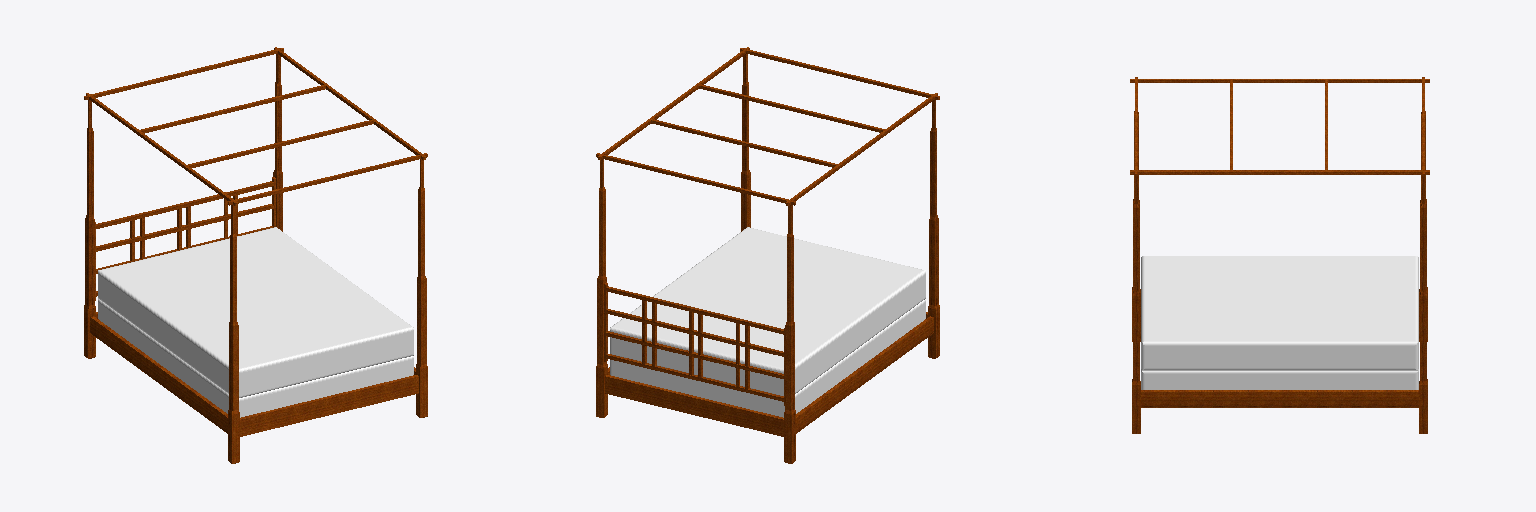
The picture shows the model from 3 angles: view 1: azimuth 30°, elevation 25°; view 2: azimuth 150°, elevation 25°; view 3: azimuth 270°, elevation 25°; orthographic projection.
Visible parts, largest first — view 1: Mesh34 Matterss2 Windward_Bed1 WW_FPQ1 Model, Mesh33 Matterss1 Windward_Bed1 WW_FPQ1 Model, Mesh4 Windward_Bed_Cross_Rail1 Windward_Bed1 WW_FPQ1 Model, Mesh28 Windward_Bed_Cross_Rail_1_2 Windward_Bed1 WW_FPQ1 Model, Mesh16 Windward_Bed_Post4 Windward_Bed1 WW_FPQ1 Model, Mesh11 Windward_Bed_Post1 Windward_Bed1 WW_FPQ1 Model, Mesh13 Windward_Bed_Post3 Windward_Bed1 WW_FPQ1 Model, Mesh12 Windward_Bed_Post2 Windward_Bed1 WW_FPQ1 Model, Mesh8 Windward_Bed_Headboard_rail1 Windward_Bed1 WW_FPQ1 Model, Mesh25 Windward_Bed_top_rail2 Windward_Bed1 WW_FPQ1 Model, Mesh5 Windward_Bed_top_rail1 Windward_Bed1 WW_FPQ1 Model, Mesh29 Windward_Bed_Headboard_rail3 Windward_Bed1 WW_FPQ1 Model (+4 smaller); view 2: Mesh34 Matterss2 Windward_Bed1 WW_FPQ1 Model, Mesh33 Matterss1 Windward_Bed1 WW_FPQ1 Model, Mesh7 Windward_Bed_Cross_Rail2 Windward_Bed1 WW_FPQ1 Model, Mesh28 Windward_Bed_Cross_Rail_1_2 Windward_Bed1 WW_FPQ1 Model, Mesh13 Windward_Bed_Post3 Windward_Bed1 WW_FPQ1 Model, Mesh16 Windward_Bed_Post4 Windward_Bed1 WW_FPQ1 Model, Mesh12 Windward_Bed_Post2 Windward_Bed1 WW_FPQ1 Model, Mesh11 Windward_Bed_Post1 Windward_Bed1 WW_FPQ1 Model, Mesh8 Windward_Bed_Headboard_rail1 Windward_Bed1 WW_FPQ1 Model, Mesh25 Windward_Bed_top_rail2 Windward_Bed1 WW_FPQ1 Model, Mesh5 Windward_Bed_top_rail1 Windward_Bed1 WW_FPQ1 Model, Mesh27 Windward_Bed_Headboard_rail2 Windward_Bed1 WW_FPQ1 Model (+6 smaller); view 3: Mesh34 Matterss2 Windward_Bed1 WW_FPQ1 Model, Mesh33 Matterss1 Windward_Bed1 WW_FPQ1 Model, Mesh6 Windward_Bed_Cross_Rail_1_1 Windward_Bed1 WW_FPQ1 Model, Mesh11 Windward_Bed_Post1 Windward_Bed1 WW_FPQ1 Model, Mesh12 Windward_Bed_Post2 Windward_Bed1 WW_FPQ1 Model, Mesh26 Windward_Bed_top_rail_1_2 Windward_Bed1 WW_FPQ1 Model, Mesh9 Windward_Bed_top_rail_1_1 Windward_Bed1 WW_FPQ1 Model.
Part boxes in pixels (x1,y1,x2,y2): Mesh34 Matterss2 Windward_Bed1 WW_FPQ1 Model: (98, 227, 413, 397); Mesh33 Matterss1 Windward_Bed1 WW_FPQ1 Model: (98, 299, 413, 417); Mesh4 Windward_Bed_Cross_Rail1 Windward_Bed1 WW_FPQ1 Model: (240, 375, 418, 436); Mesh28 Windward_Bed_Cross_Rail_1_2 Windward_Bed1 WW_FPQ1 Model: (90, 316, 227, 433); Mesh16 Windward_Bed_Post4 Windward_Bed1 WW_FPQ1 Model: (228, 205, 239, 463); Mesh11 Windward_Bed_Post1 Windward_Bed1 WW_FPQ1 Model: (416, 159, 427, 417); Mesh13 Windward_Bed_Post3 Windward_Bed1 WW_FPQ1 Model: (84, 100, 95, 358); Mesh12 Windward_Bed_Post2 Windward_Bed1 WW_FPQ1 Model: (273, 54, 282, 231); Mesh8 Windward_Bed_Headboard_rail1 Windward_Bed1 WW_FPQ1 Model: (96, 181, 273, 228); Mesh25 Windward_Bed_top_rail2 Windward_Bed1 WW_FPQ1 Model: (84, 48, 283, 99); Mesh5 Windward_Bed_top_rail1 Windward_Bed1 WW_FPQ1 Model: (228, 153, 427, 205); Mesh29 Windward_Bed_Headboard_rail3 Windward_Bed1 WW_FPQ1 Model: (96, 204, 273, 251); Mesh34 Matterss2 Windward_Bed1 WW_FPQ1 Model: (610, 227, 925, 395); Mesh33 Matterss1 Windward_Bed1 WW_FPQ1 Model: (610, 299, 925, 417); Mesh7 Windward_Bed_Cross_Rail2 Windward_Bed1 WW_FPQ1 Model: (605, 375, 783, 436); Mesh28 Windward_Bed_Cross_Rail_1_2 Windward_Bed1 WW_FPQ1 Model: (796, 316, 933, 433); Mesh13 Windward_Bed_Post3 Windward_Bed1 WW_FPQ1 Model: (784, 205, 795, 463); Mesh16 Windward_Bed_Post4 Windward_Bed1 WW_FPQ1 Model: (928, 100, 939, 358); Mesh12 Windward_Bed_Post2 Windward_Bed1 WW_FPQ1 Model: (596, 159, 607, 417); Mesh11 Windward_Bed_Post1 Windward_Bed1 WW_FPQ1 Model: (741, 54, 750, 231); Mesh8 Windward_Bed_Headboard_rail1 Windward_Bed1 WW_FPQ1 Model: (606, 286, 783, 334); Mesh25 Windward_Bed_top_rail2 Windward_Bed1 WW_FPQ1 Model: (596, 153, 795, 205); Mesh5 Windward_Bed_top_rail1 Windward_Bed1 WW_FPQ1 Model: (740, 48, 939, 99); Mesh27 Windward_Bed_Headboard_rail2 Windward_Bed1 WW_FPQ1 Model: (606, 354, 783, 401); Mesh34 Matterss2 Windward_Bed1 WW_FPQ1 Model: (1141, 256, 1418, 370); Mesh33 Matterss1 Windward_Bed1 WW_FPQ1 Model: (1141, 369, 1418, 389); Mesh6 Windward_Bed_Cross_Rail_1_1 Windward_Bed1 WW_FPQ1 Model: (1141, 390, 1418, 407); Mesh11 Windward_Bed_Post1 Windward_Bed1 WW_FPQ1 Model: (1132, 177, 1140, 433); Mesh12 Windward_Bed_Post2 Windward_Bed1 WW_FPQ1 Model: (1419, 177, 1427, 433); Mesh26 Windward_Bed_top_rail_1_2 Windward_Bed1 WW_FPQ1 Model: (1130, 170, 1429, 174); Mesh9 Windward_Bed_top_rail_1_1 Windward_Bed1 WW_FPQ1 Model: (1130, 79, 1429, 82).
Size of the model in its own units: 66.25 by 83.25 by 86.5.
Materials: 3 (2 with a texture image).